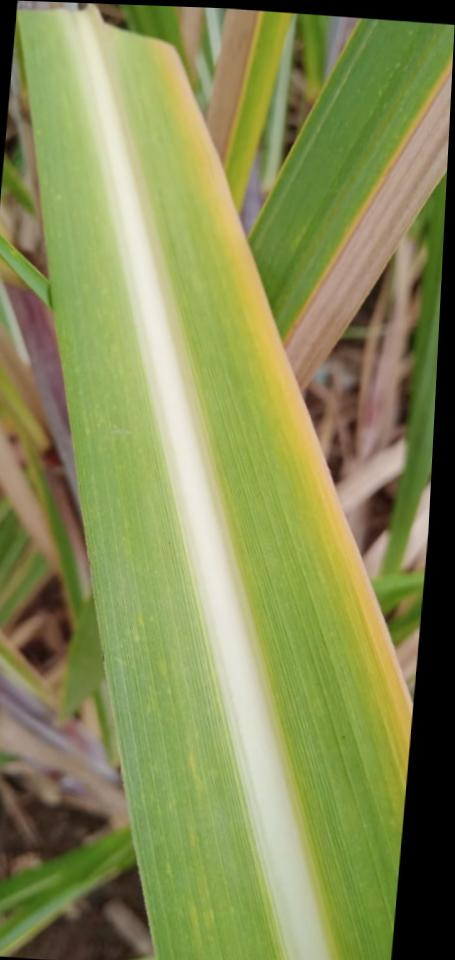Yellow: (154, 41, 412, 757), (281, 53, 453, 393), (233, 12, 293, 215), (204, 8, 262, 174)
